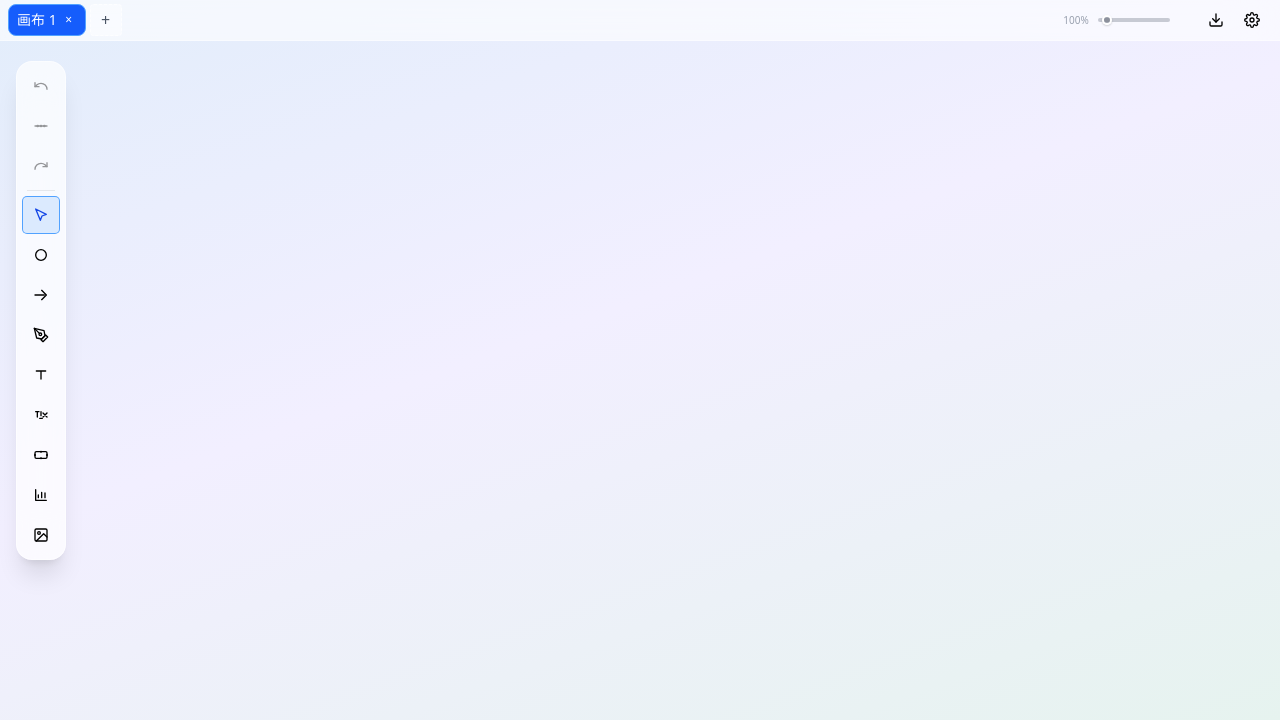
Scenario: Toolbar 画布管理 › 点击 + 新建画布并作为标签切换过去
This screenshot has width=1280, height=720.
Click the button titled "新建画布" at (106, 20), box x1=90 y1=4 x2=122 y2=36
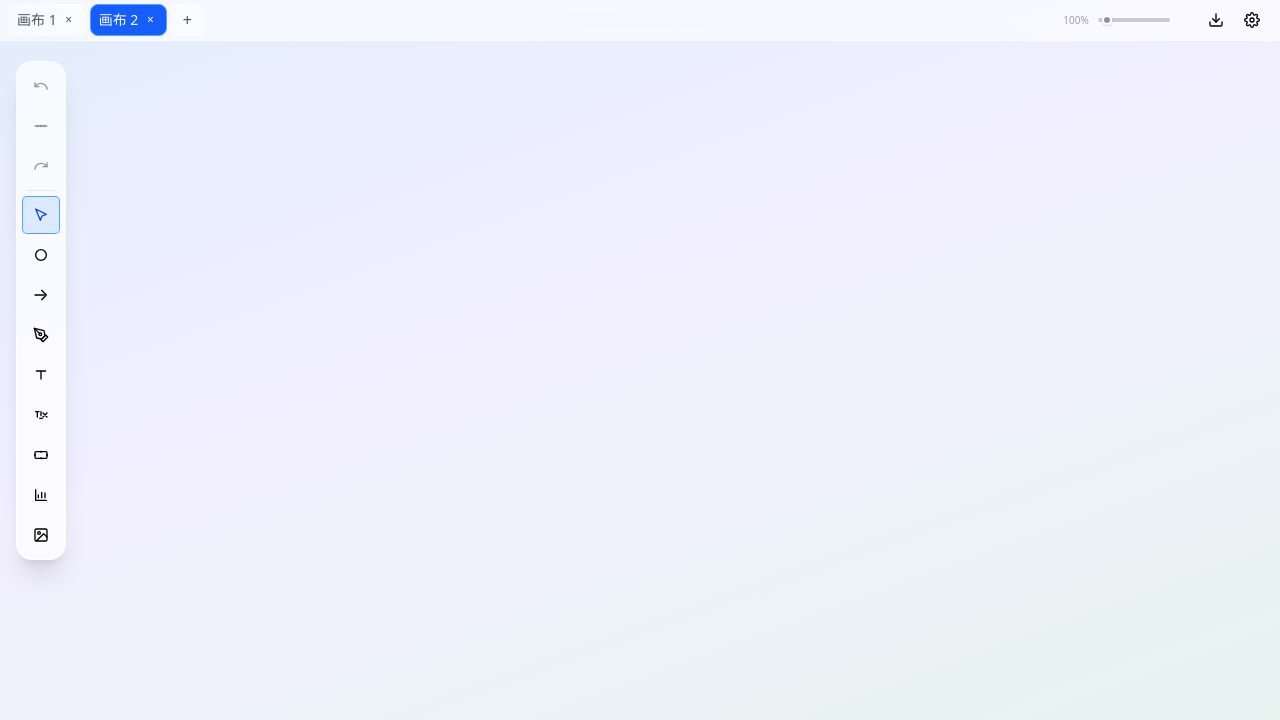
expect the element with test id "project-tab" shows "画布 1": met, box x1=17 y1=10 x2=57 y2=30
expect the number of elements with test id "project-tab" is 2: met, box x1=8 y1=4 x2=86 y2=36; x1=90 y1=4 x2=167 y2=36
expect the element with test id "project-tab" shows "画布 2": met, box x1=99 y1=10 x2=138 y2=30
